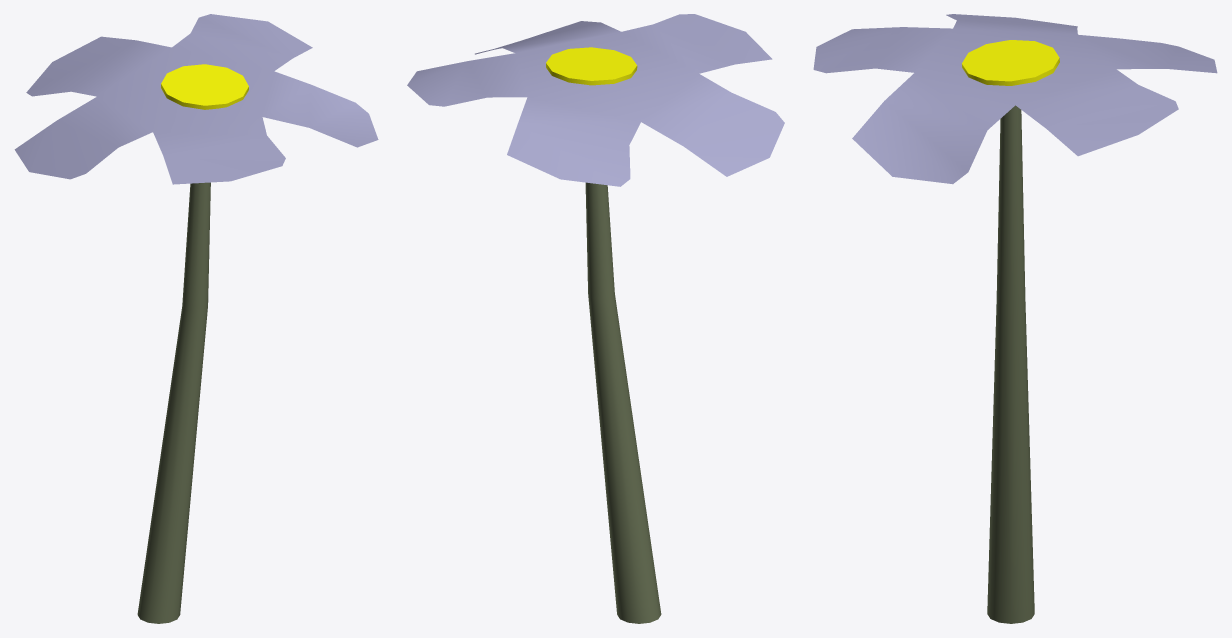
Rendered from paarse bloem.fbx.
The picture shows the model from 3 angles, left to right: view 1: azimuth 30°, elevation 25°; view 2: azimuth 150°, elevation 25°; view 3: azimuth 270°, elevation 25°; orthographic projection. The views are drawn at different scales.
Parts seen in each view (by area): view 1: polySurface149; view 2: polySurface149; view 3: polySurface149.
Part boxes in pixels (box(x1,y1,x2,y2)): polySurface149: box(14, 14, 378, 623); polySurface149: box(407, 14, 784, 623); polySurface149: box(813, 14, 1217, 623).
Bounding box in the file's own units: 0.2732 × 0.4364 × 0.2749.
